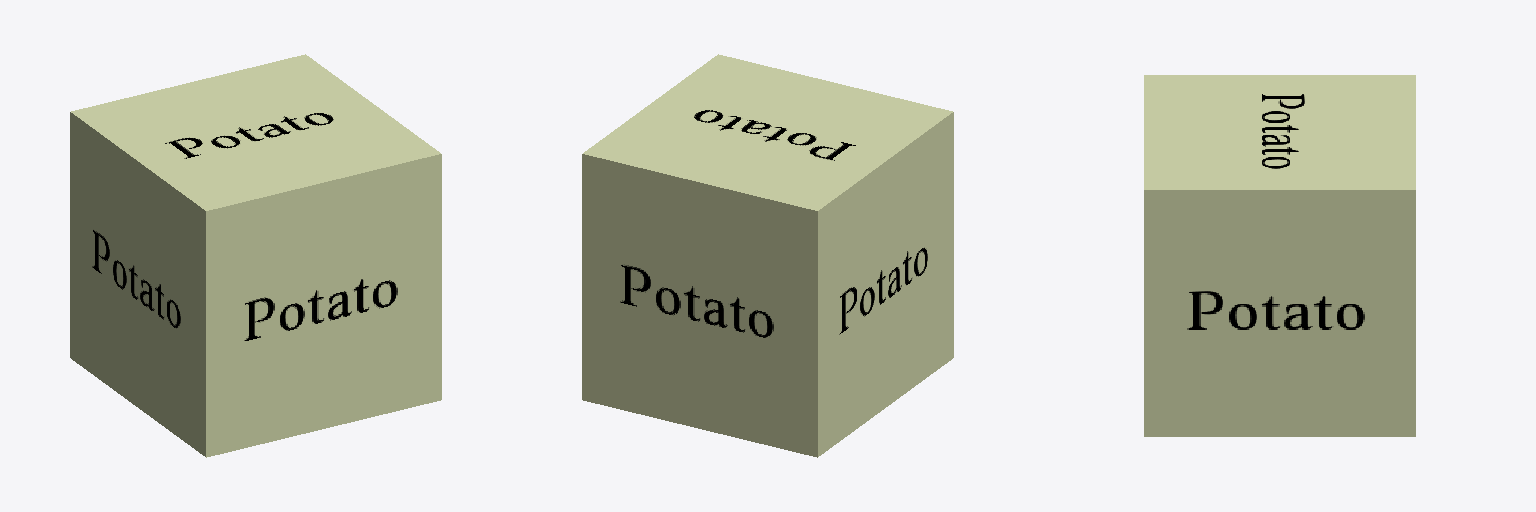
The picture shows the model from 3 angles: view 1: azimuth 30°, elevation 25°; view 2: azimuth 150°, elevation 25°; view 3: azimuth 270°, elevation 25°; orthographic projection.
Visible parts, largest first — view 1: Cube; view 2: Cube; view 3: Cube.
Boxes of the visible parts, x1=… form: Cube: x1=70, y1=54, x2=441, y2=457; Cube: x1=582, y1=54, x2=953, y2=457; Cube: x1=1144, y1=75, x2=1415, y2=436.
Size of the model in its own units: 0.6 by 0.6 by 0.6.
Materials: 1 (1 with a texture image).